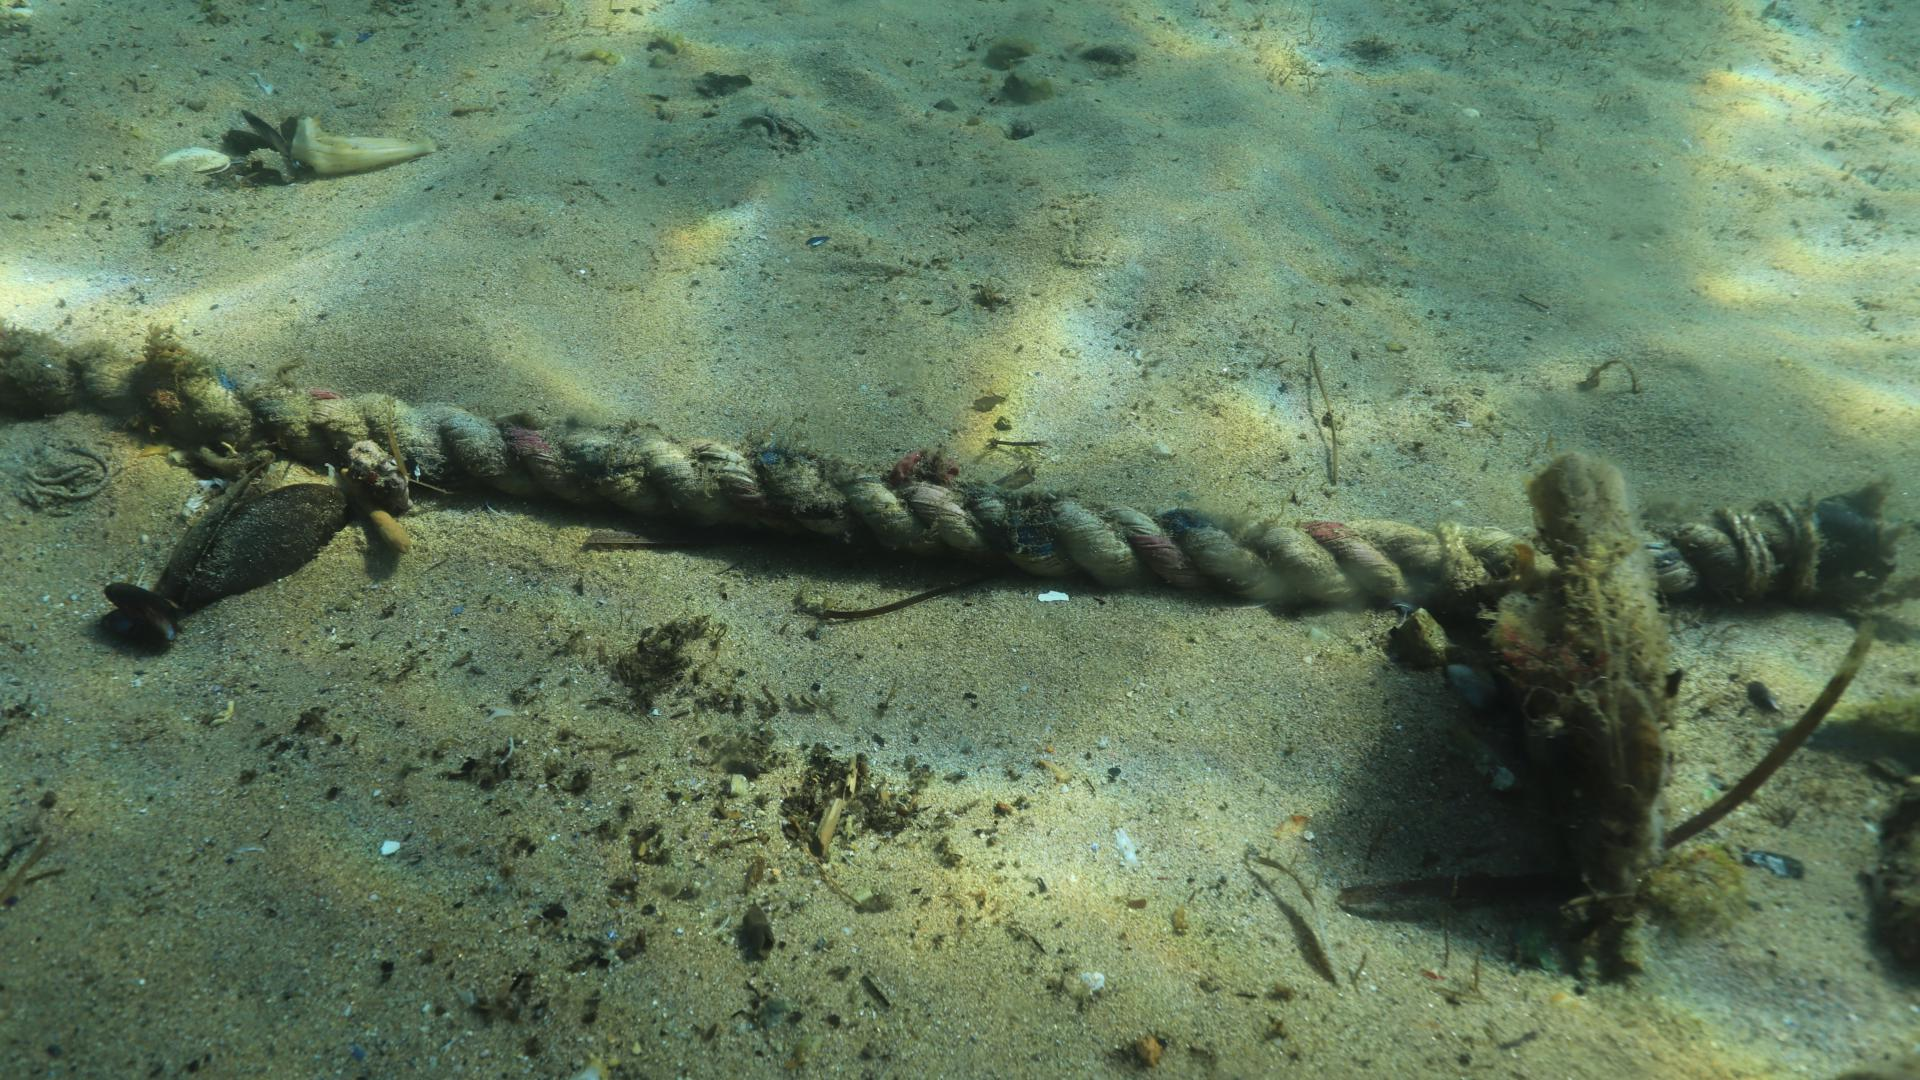rope: (0, 330, 1920, 612)
